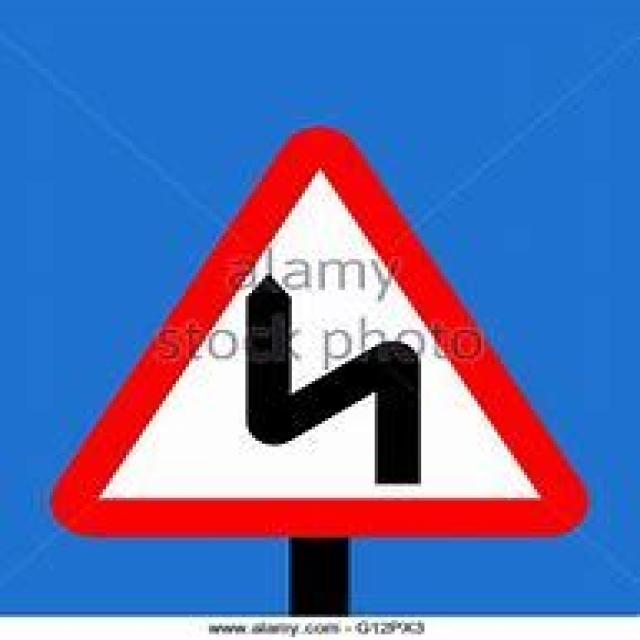LEFT_REVERSE_BEND: (51, 126, 584, 537)
